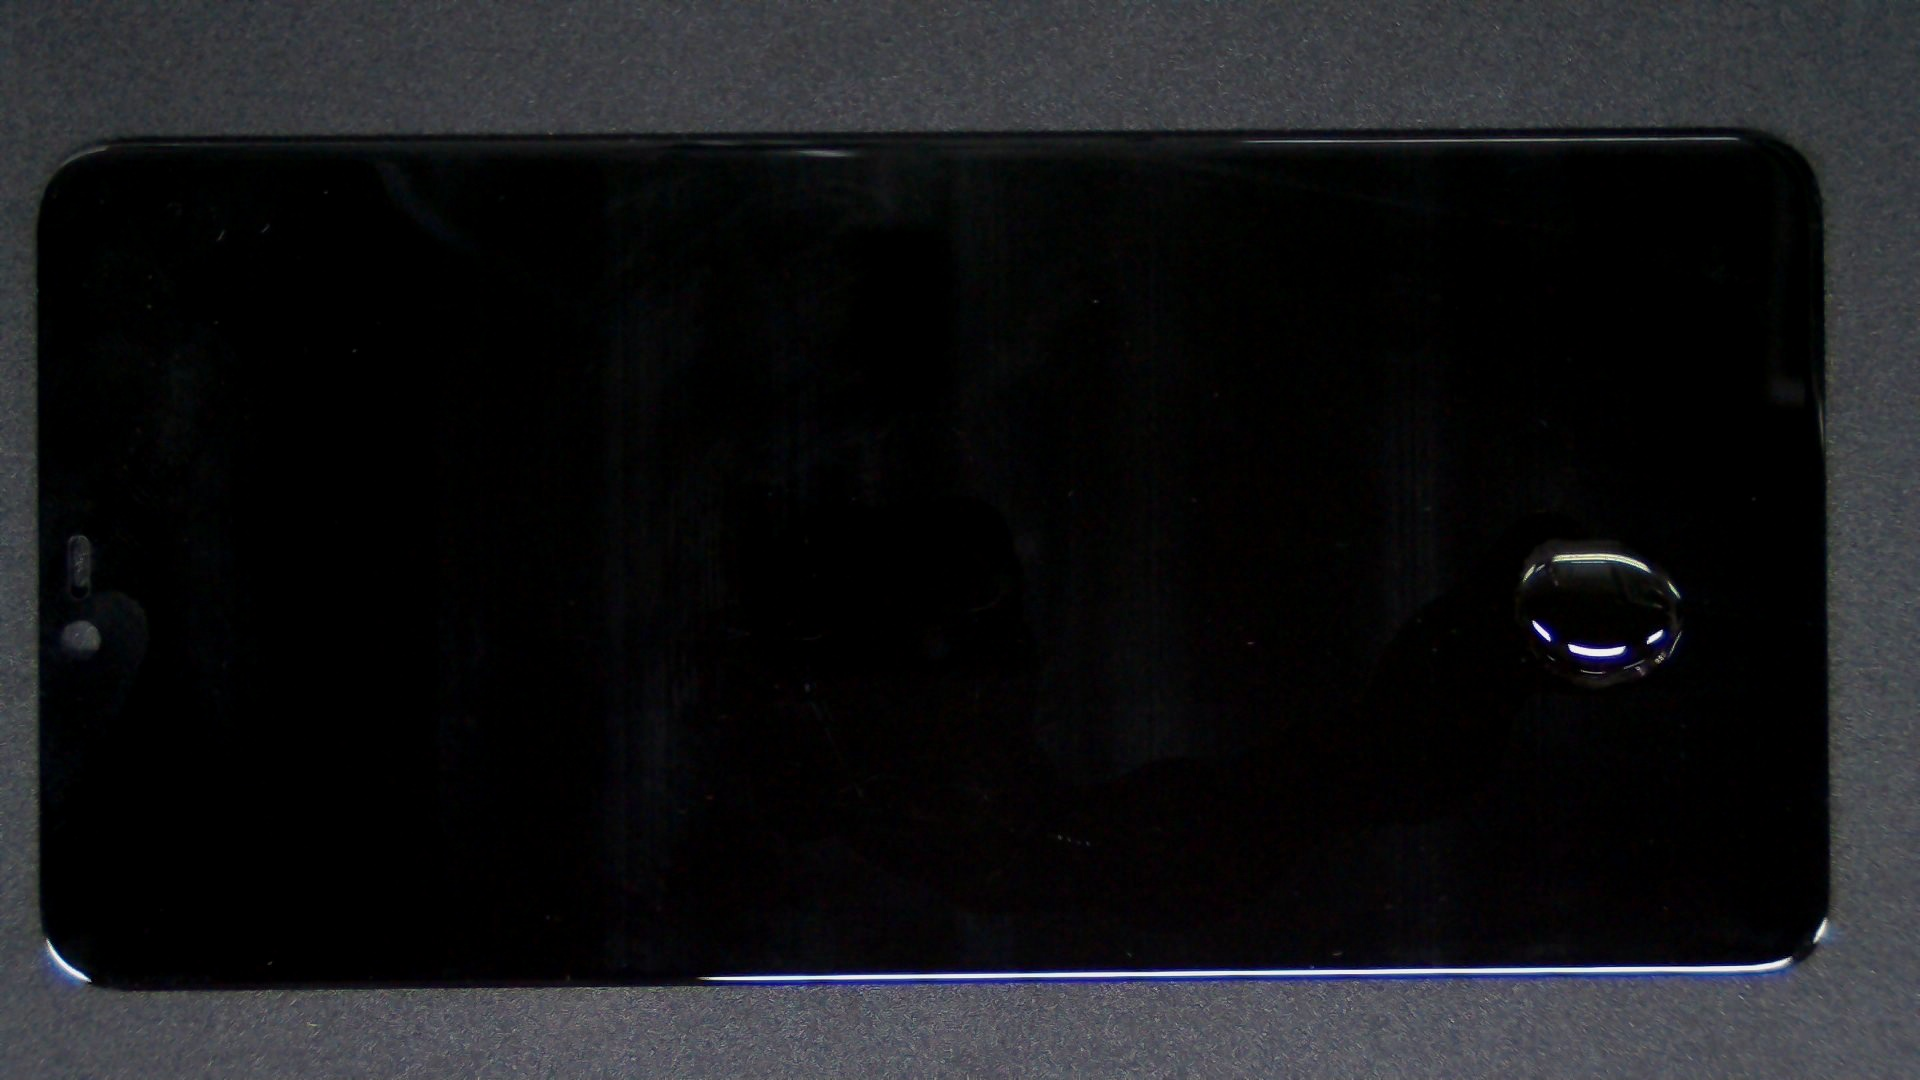oil: (781, 269, 1920, 808)
